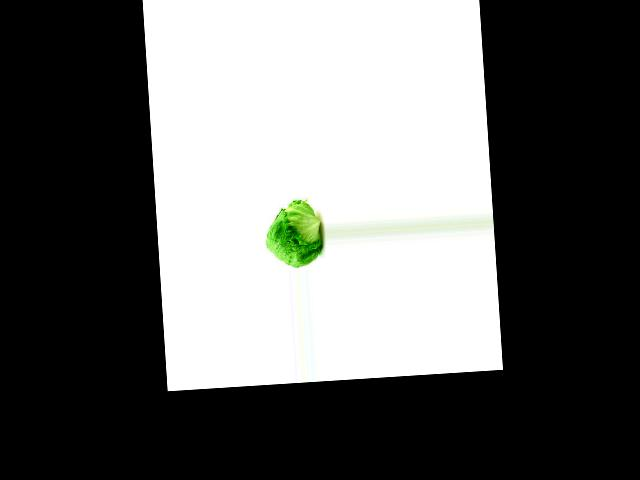lettuce: (261, 198, 324, 271)
